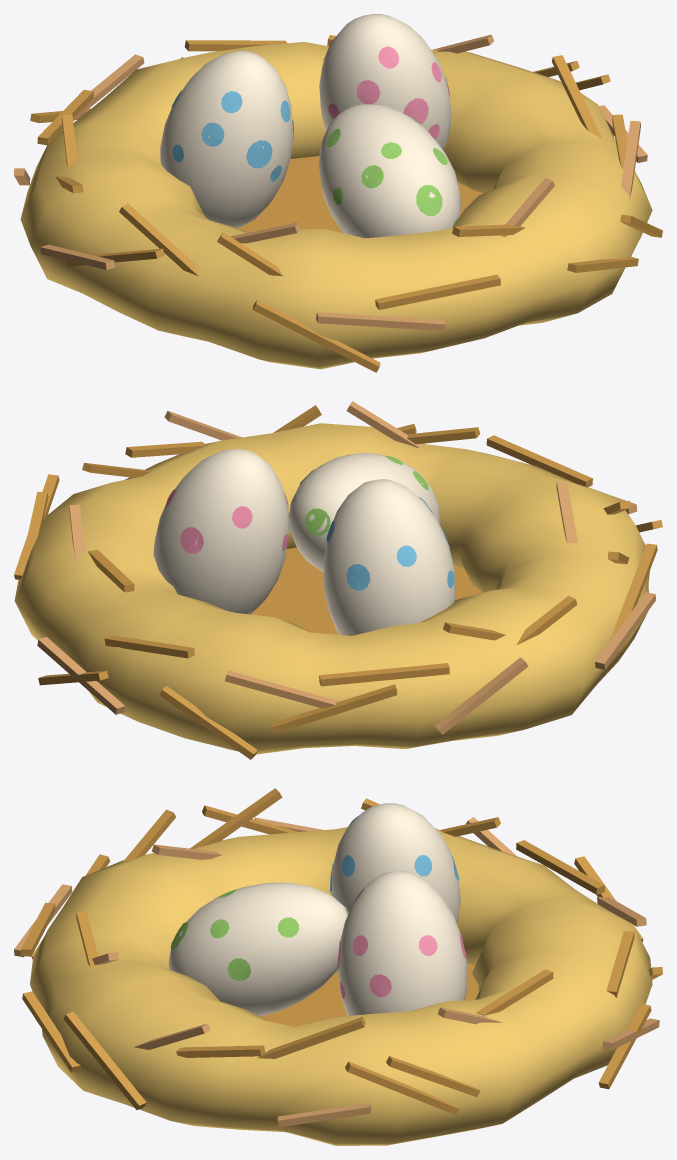
File: egg_nest_giant.glb
3 renders of one model, top to bottom at view 1: azimuth 30°, elevation 25°; view 2: azimuth 150°, elevation 25°; view 3: azimuth 270°, elevation 25°, orthographic. The views are drawn at different scales.
Parts seen in each view (by area): view 1: egg_nest_giant; view 2: egg_nest_giant; view 3: egg_nest_giant.
Boxes of the visible parts, x1,y1,x2,y2 form: egg_nest_giant: (14,14,662,372); egg_nest_giant: (14,401,662,759); egg_nest_giant: (14,788,662,1145).
Size of the model in its own units: 4.36 by 1.49 by 4.38.
